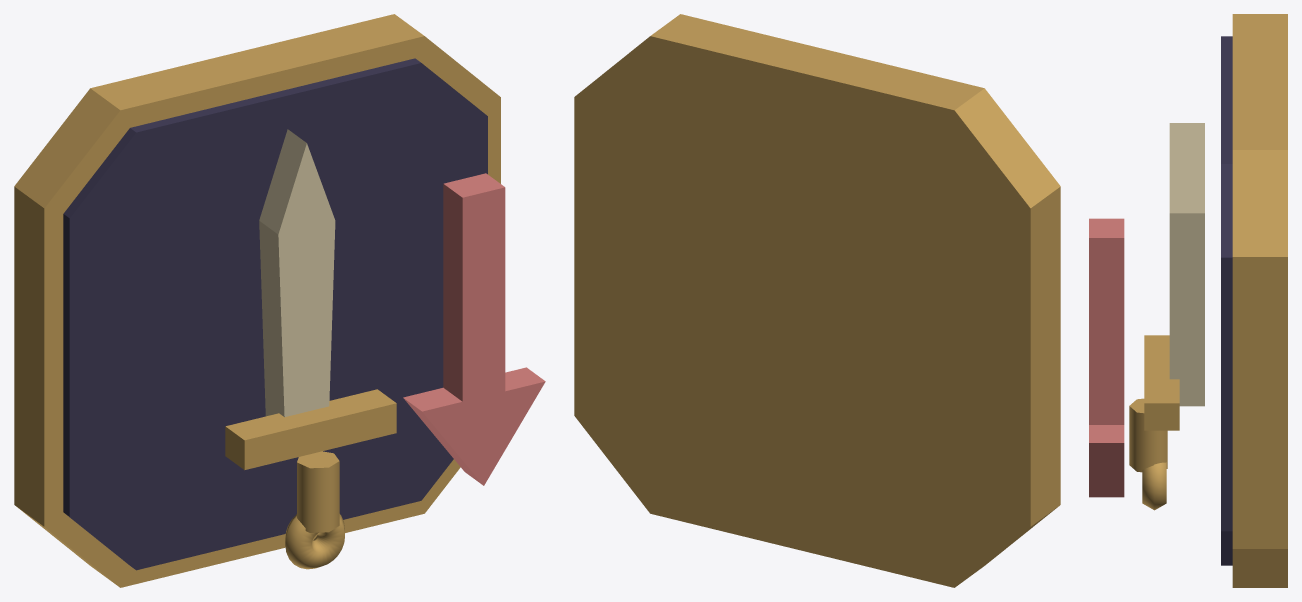
The model's file is attack_down.fbx.
3 views of the same model, side by side, from view 1: azimuth 30°, elevation 25°; view 2: azimuth 150°, elevation 25°; view 3: azimuth 270°, elevation 25° (orthographic). The views are drawn at different scales.
Parts seen in each view (by area): view 1: attack_down; view 2: attack_down; view 3: attack_down.
Part boxes in pixels (<box>): attack_down: <box>14,14,545,587</box>; attack_down: <box>574,14,1060,587</box>; attack_down: <box>1089,14,1287,587</box>.
Size of the model in its own units: 0.96 by 0.96 by 0.395.
